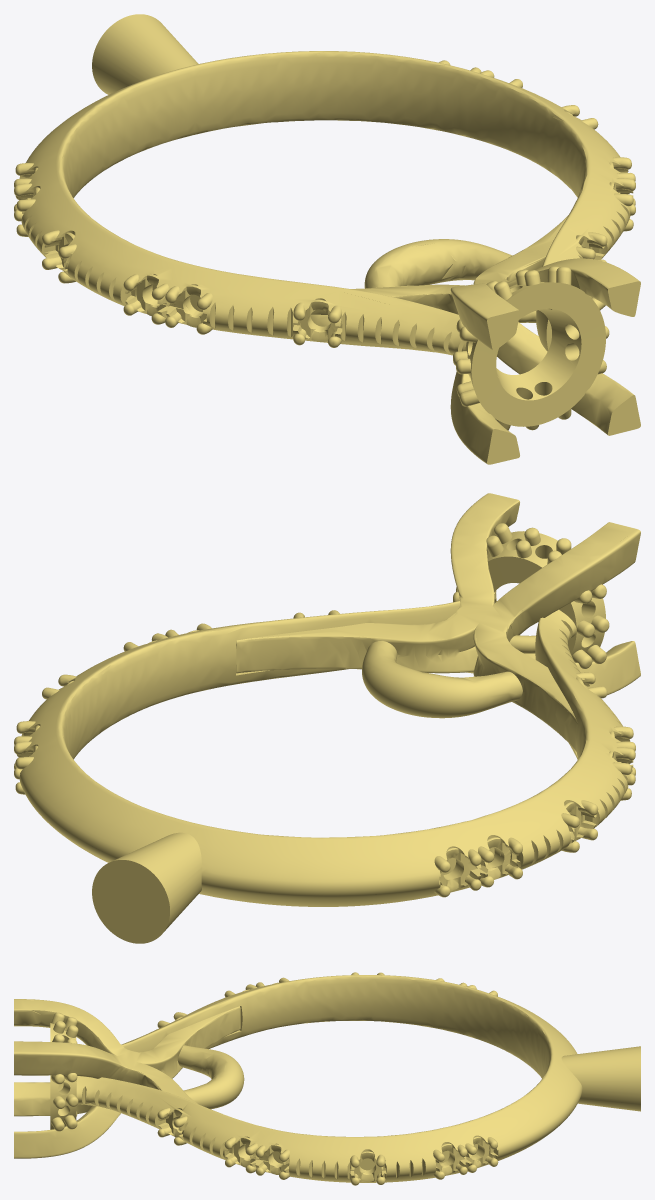
3 views of the same model, one above another, from view 1: azimuth 30°, elevation 25°; view 2: azimuth 150°, elevation 25°; view 3: azimuth 270°, elevation 25° (orthographic). The views are drawn at different scales.
Visible parts, largest first — view 1: Renderer Node; view 2: Renderer Node; view 3: Renderer Node.
Boxes of the visible parts, left/top/right/bottom form: Renderer Node: left=14, top=14, right=640, bottom=464; Renderer Node: left=14, top=493, right=640, bottom=943; Renderer Node: left=14, top=972, right=640, bottom=1185.
Bounding box in the file's own units: 21.25 × 5.99 × 29.65.
